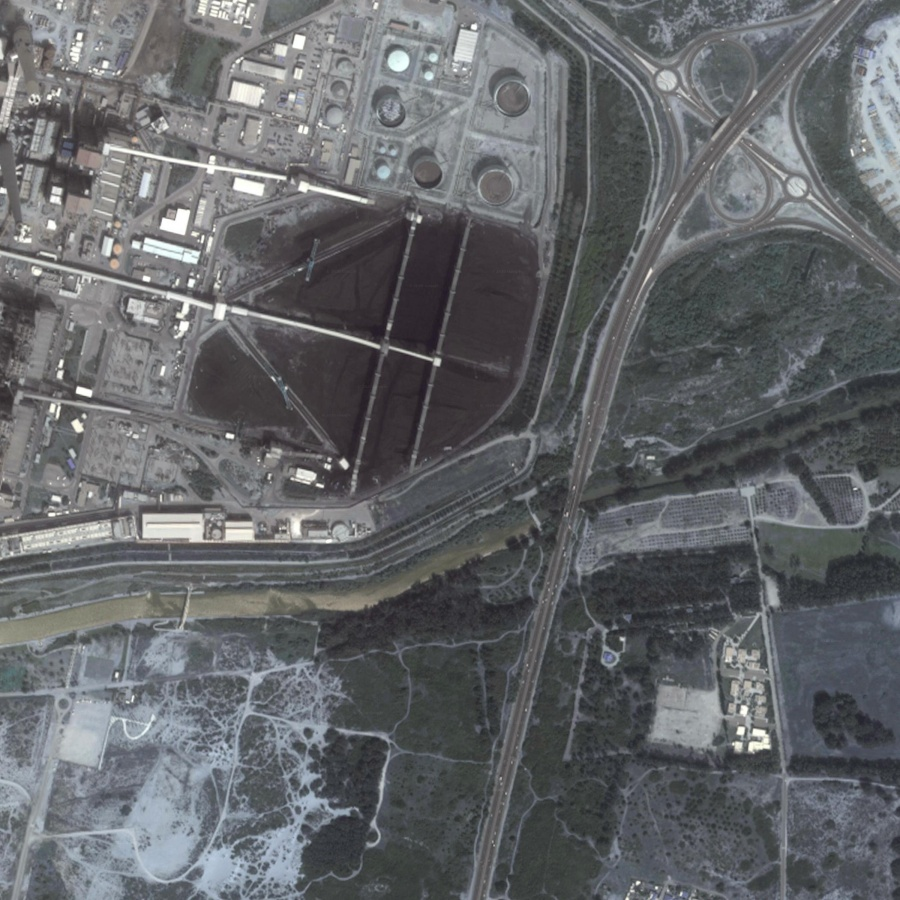PowerPlant: (183, 81, 544, 477)
